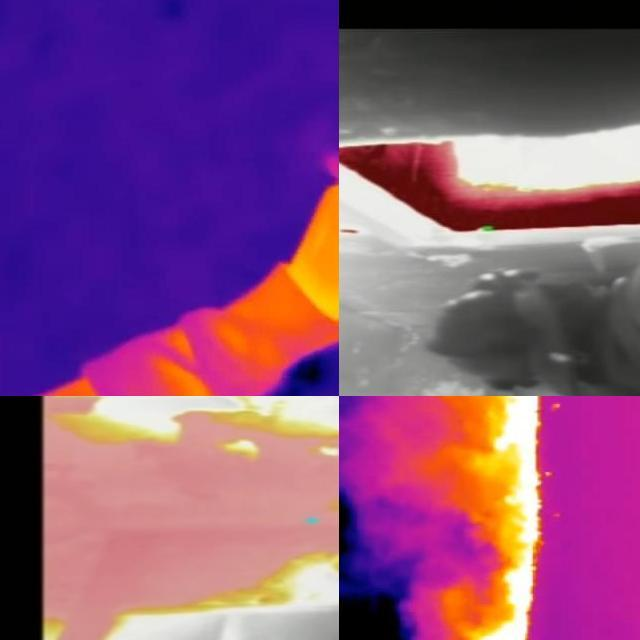fire: (41, 397, 340, 640), (451, 397, 589, 640), (340, 128, 640, 236)
